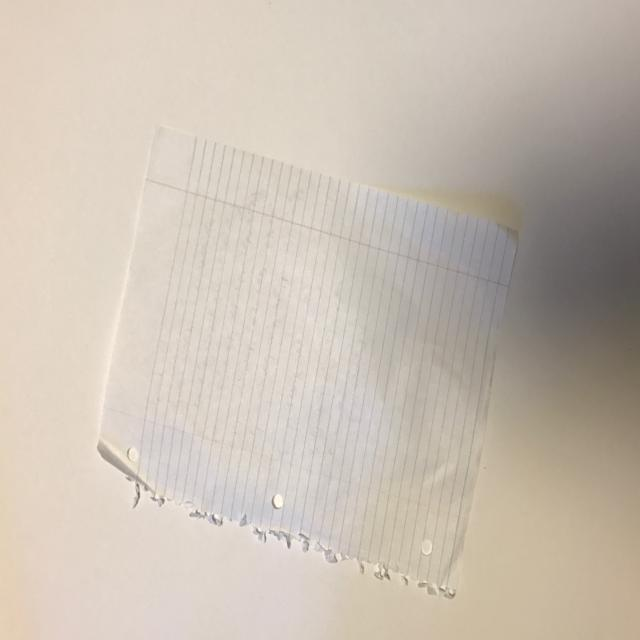paper: (75, 125, 548, 592)
